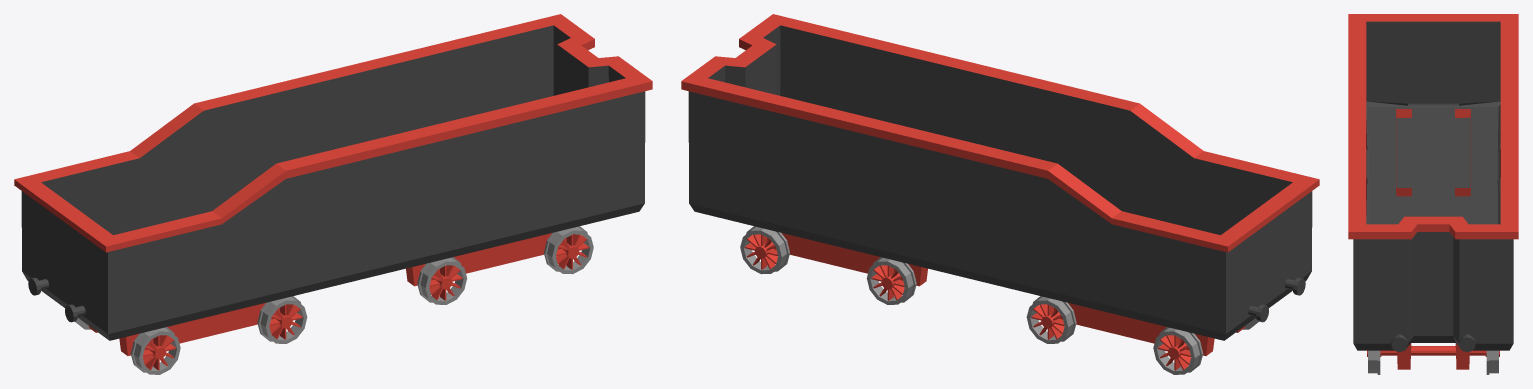
The model's file is Empty_Freight_wagon.fbx.
The picture shows the model from 3 angles, left to right: view 1: azimuth 30°, elevation 25°; view 2: azimuth 150°, elevation 25°; view 3: azimuth 270°, elevation 25°; orthographic projection. The views are drawn at different scales.
Parts seen in each view (by area): view 1: Empty_Freight_wagon; view 2: Empty_Freight_wagon; view 3: Empty_Freight_wagon.
Part boxes in pixels (left/top/right/bottom): Empty_Freight_wagon: left=14, top=14, right=652, bottom=374; Empty_Freight_wagon: left=681, top=14, right=1319, bottom=374; Empty_Freight_wagon: left=1348, top=14, right=1518, bottom=374.
Size of the model in its own units: 1079 by 304 by 339.
